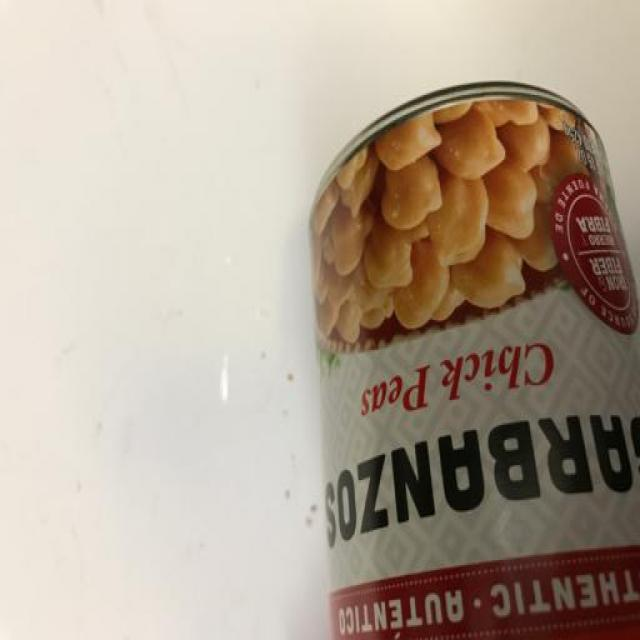metel: (290, 66, 640, 640)
